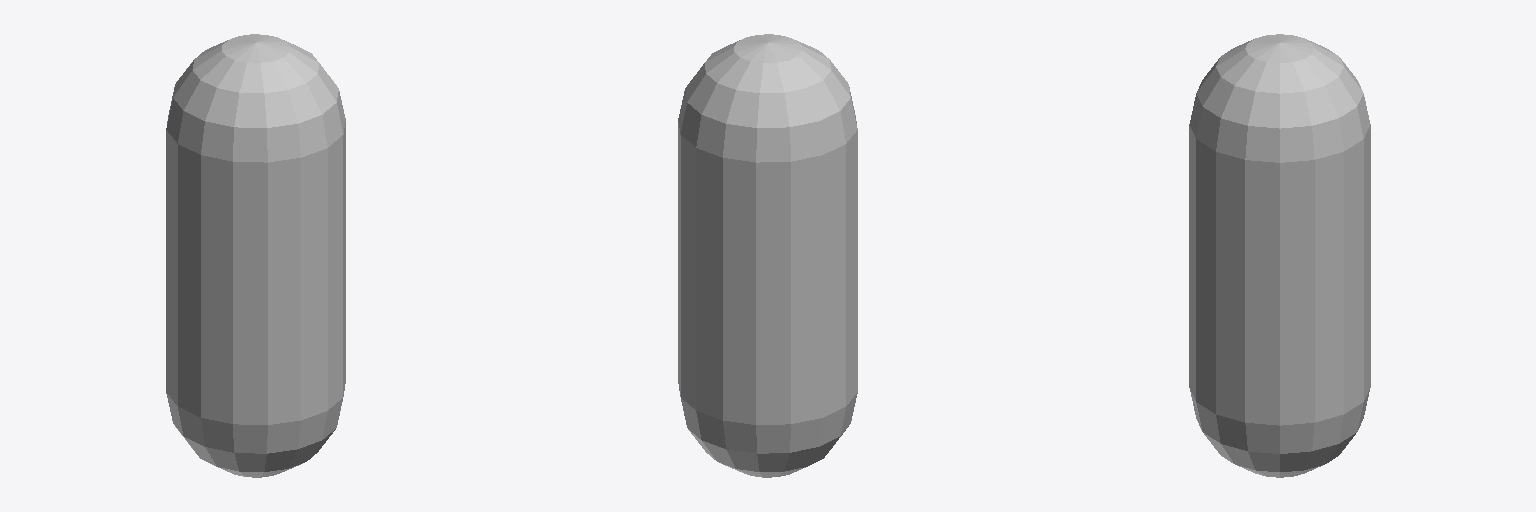
The model's file is CryoTube Collider.obj.
3 renders of one model, left to right at view 1: azimuth 30°, elevation 25°; view 2: azimuth 150°, elevation 25°; view 3: azimuth 270°, elevation 25°, orthographic.
Size of the model in its own units: 2.85 by 7.4 by 2.85.